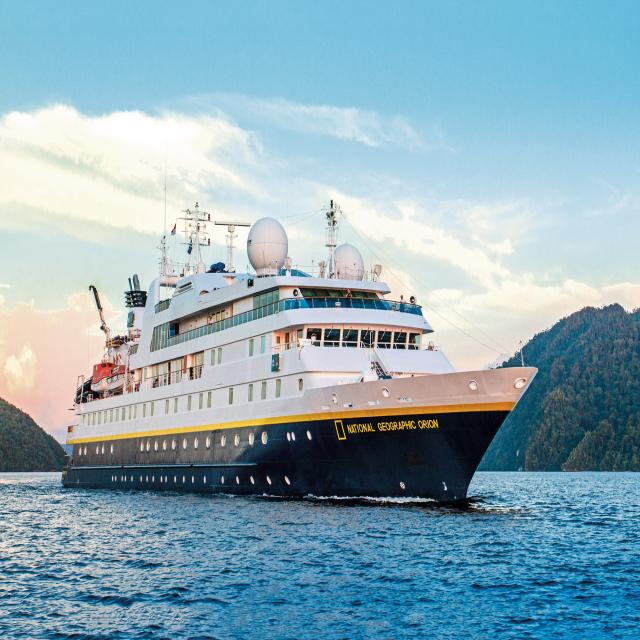PassengerShip: (25, 169, 596, 579)
